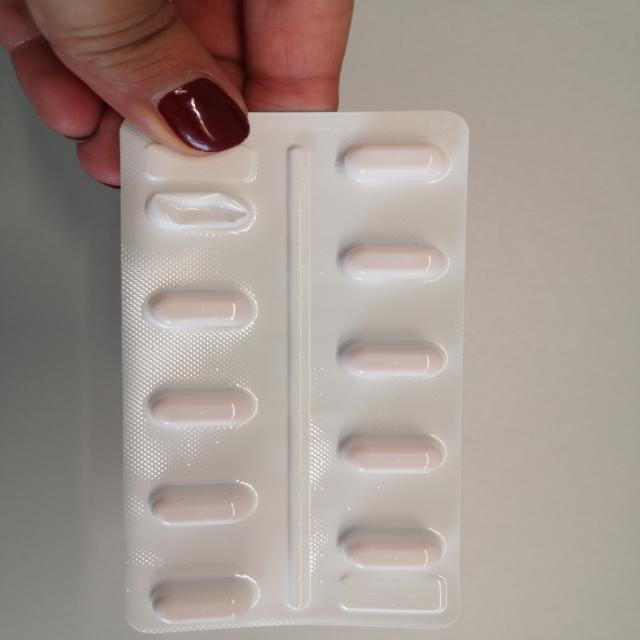Empty: (131, 182, 269, 240)
Pill: (324, 420, 464, 478), (138, 474, 273, 534), (138, 374, 268, 436), (136, 277, 266, 339), (320, 136, 458, 193), (325, 327, 460, 384), (325, 518, 462, 574), (142, 569, 271, 626), (325, 234, 458, 287)
